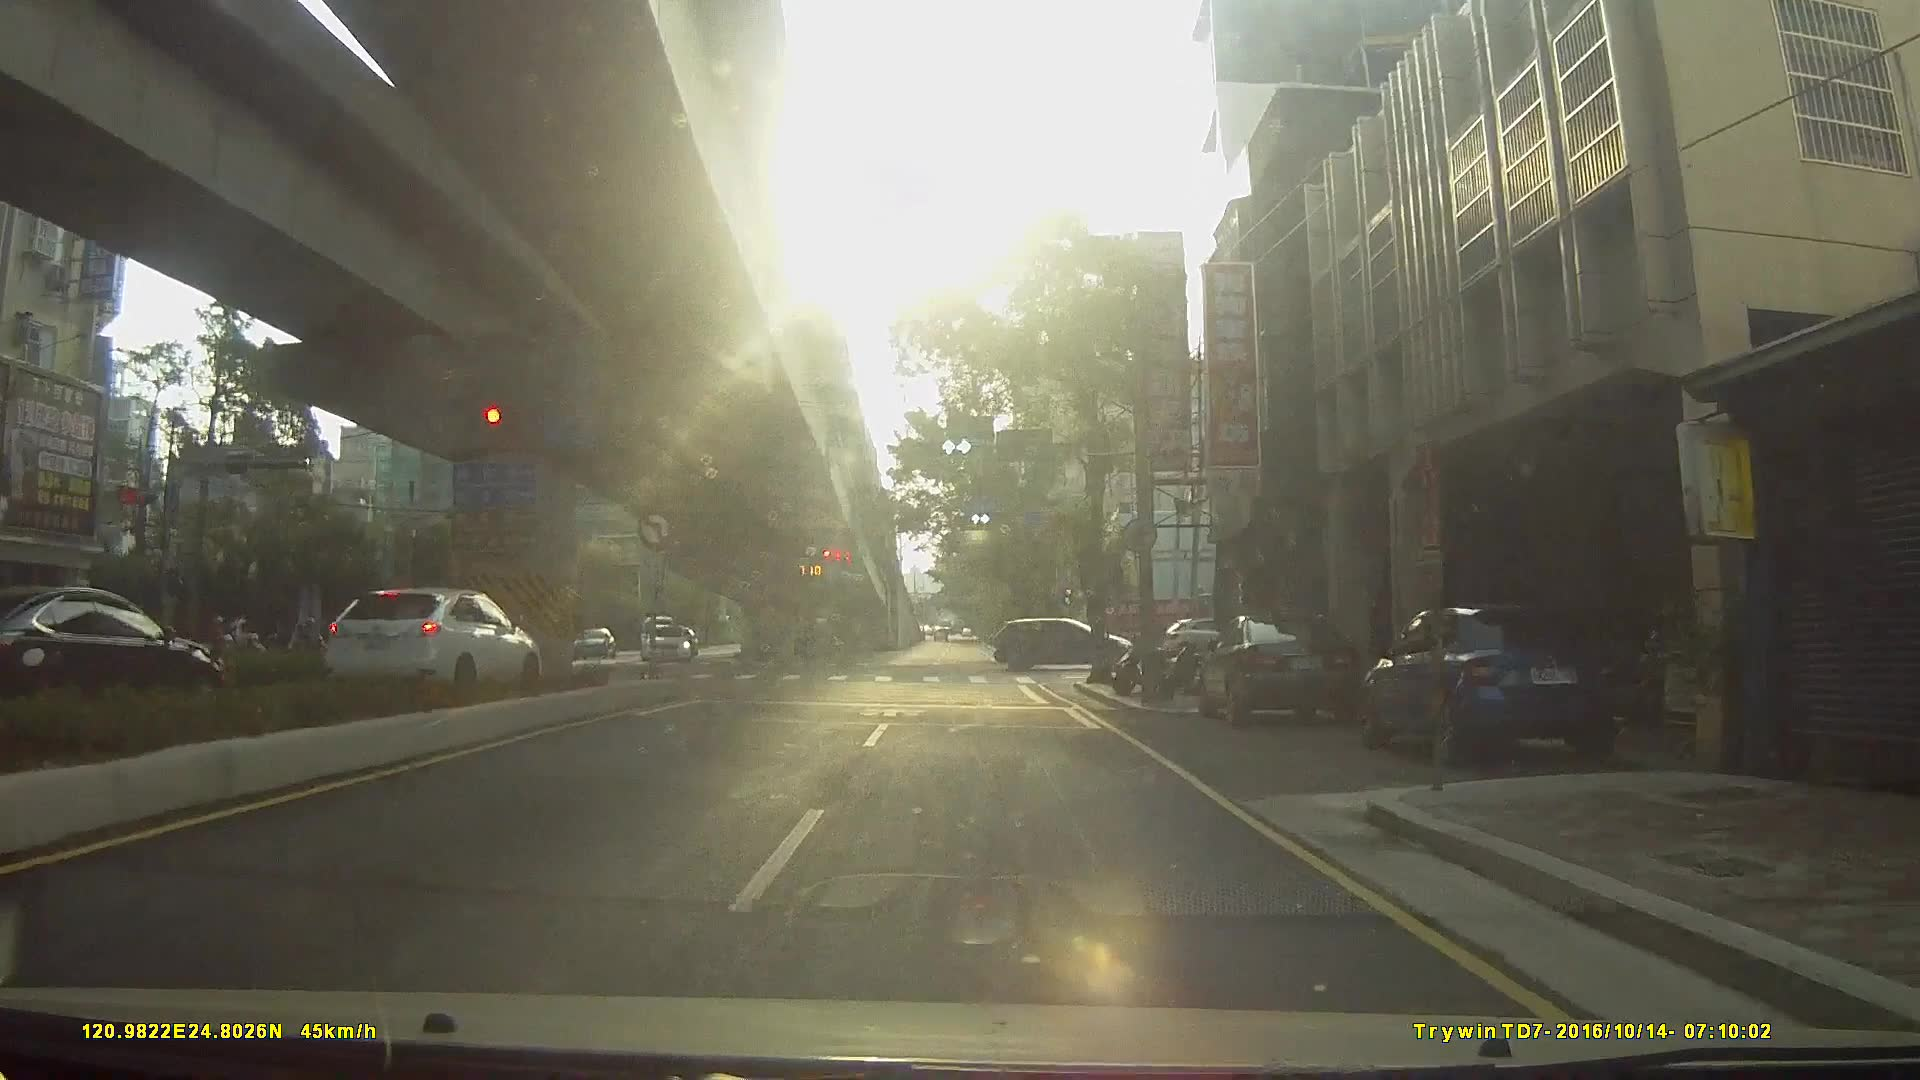vehicle: (1370, 599, 1642, 770), (1, 588, 233, 731), (301, 588, 554, 704), (1200, 607, 1373, 727), (997, 615, 1149, 669), (640, 618, 690, 661), (564, 622, 615, 655)
